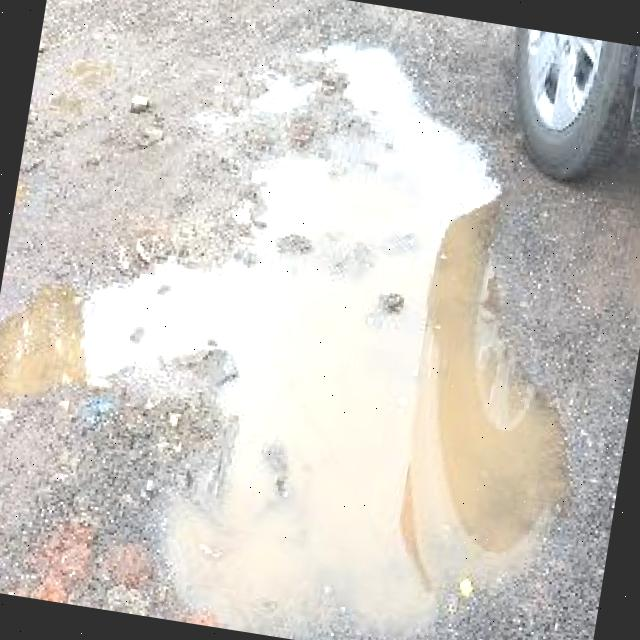stagnation: (0, 24, 596, 640)
